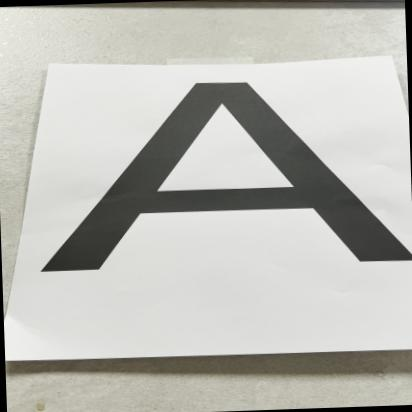seat: (41, 67, 412, 281)
